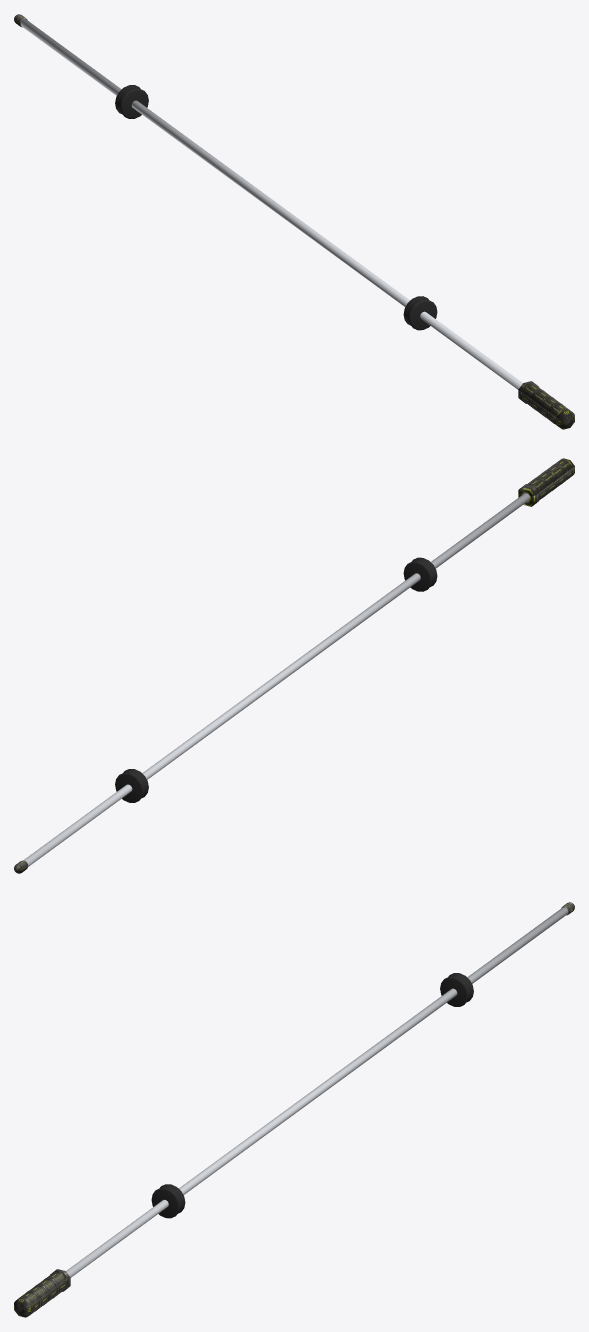
File: fuzeball_rod_5man.glb
3 views of the same model, one above another, from view 1: azimuth 30°, elevation 25°; view 2: azimuth 150°, elevation 25°; view 3: azimuth 330°, elevation 25° (orthographic).
Parts seen in each view (by area): view 1: rod5_bar.003, rod3_handle.alien.001, CylinderL_rod3.001, CylinderR_rod3.001; view 2: rod5_bar.003, rod3_handle.alien.001, CylinderL_rod3.001, CylinderR_rod3.001; view 3: rod5_bar.003, rod3_handle.alien.001, CylinderL_rod3.001, CylinderR_rod3.001.
Part boxes in pixels (bbox=[...]): rod5_bar.003: bbox=[20, 19, 522, 389]; rod3_handle.alien.001: bbox=[518, 381, 574, 429]; CylinderL_rod3.001: bbox=[403, 296, 437, 330]; CylinderR_rod3.001: bbox=[115, 85, 148, 118]; rod5_bar.003: bbox=[23, 493, 529, 866]; rod3_handle.alien.001: bbox=[518, 458, 574, 506]; CylinderL_rod3.001: bbox=[403, 557, 437, 591]; CylinderR_rod3.001: bbox=[115, 769, 148, 802]; rod5_bar.003: bbox=[66, 907, 568, 1277]; rod3_handle.alien.001: bbox=[14, 1269, 70, 1317]; CylinderL_rod3.001: bbox=[151, 1184, 185, 1218]; CylinderR_rod3.001: bbox=[440, 973, 473, 1006].
Bounding box in the file's own units: 3.02 × 3.02 × 101.
Materials: 3 (1 with a texture image).
